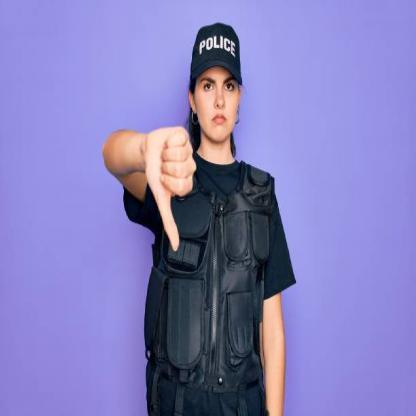thumb_down: (144, 122, 198, 256)
